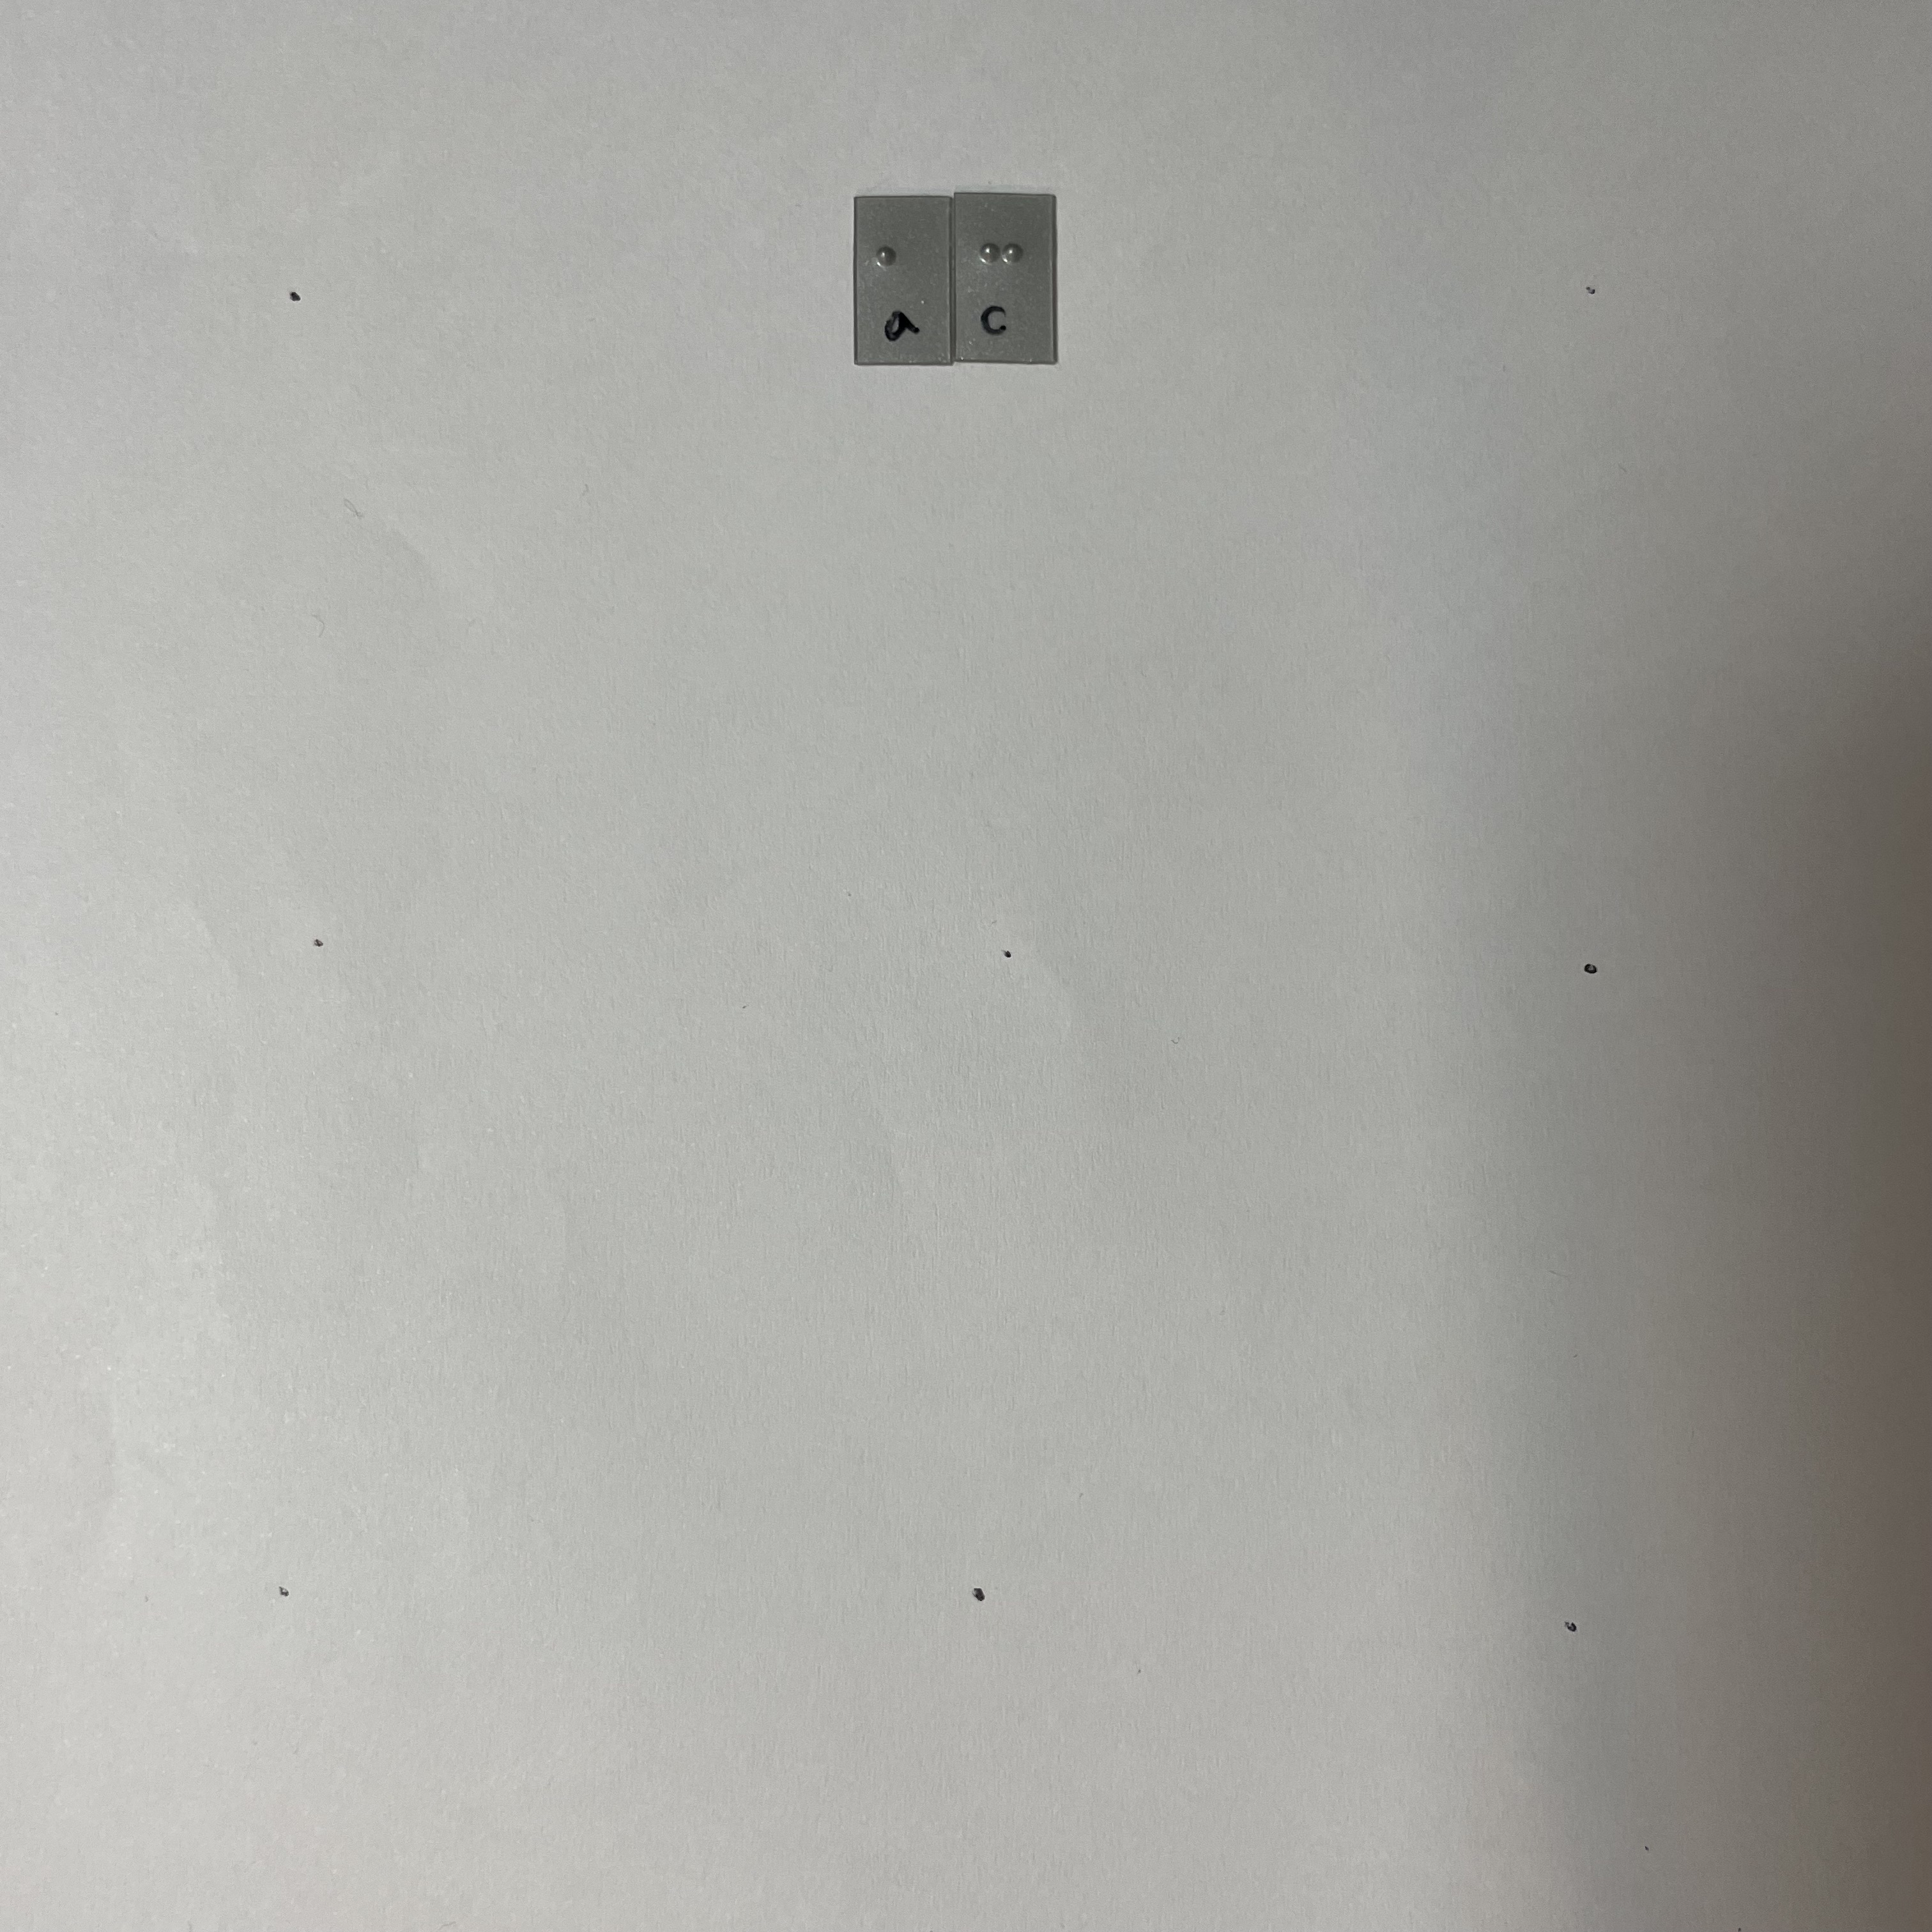a: (871, 233, 919, 304)
c: (974, 224, 1031, 306)
